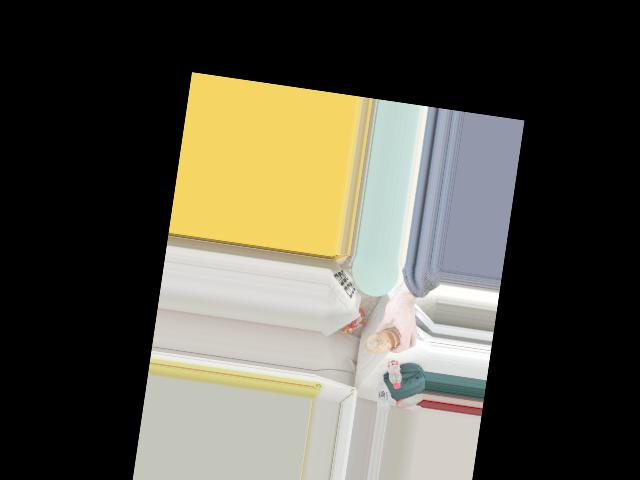sweet_potato: (369, 323, 404, 358)
